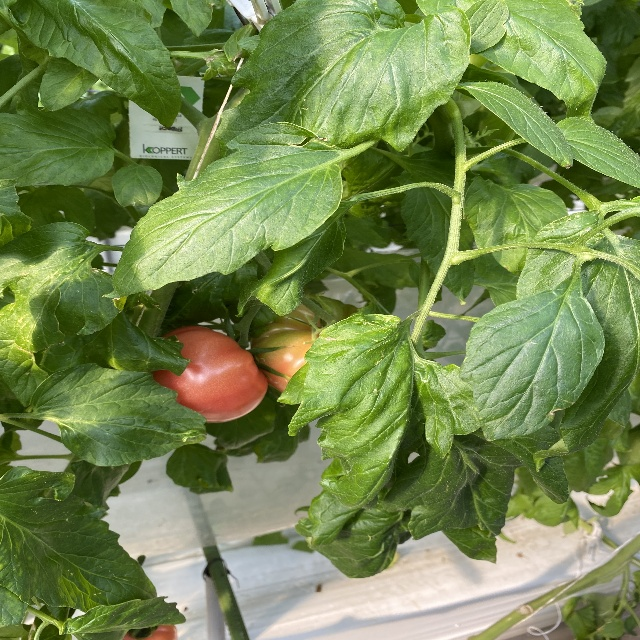b_fully_ripened: (149, 325, 269, 423)
b_half_ripened: (251, 294, 360, 392)
